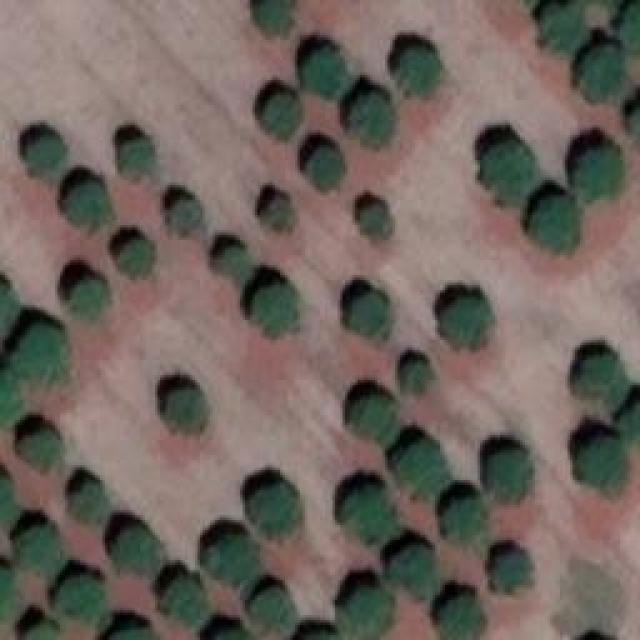Tree: (10, 323, 70, 388), (483, 140, 538, 200), (573, 142, 626, 200), (530, 193, 580, 253), (578, 40, 628, 98), (395, 440, 448, 493), (543, 3, 593, 56), (108, 522, 163, 570), (160, 573, 208, 628), (347, 90, 395, 143), (248, 285, 301, 333), (572, 433, 620, 486), (345, 485, 395, 535), (575, 350, 625, 400), (8, 430, 63, 475), (393, 543, 438, 598), (445, 298, 493, 348), (250, 482, 300, 530), (350, 395, 398, 445), (15, 525, 63, 573), (438, 590, 483, 640), (345, 290, 390, 338), (57, 575, 105, 620), (303, 45, 346, 95), (62, 180, 110, 223), (440, 495, 488, 538), (393, 48, 436, 93), (165, 388, 208, 433), (65, 483, 110, 526), (250, 588, 293, 633), (490, 447, 530, 495), (65, 278, 108, 321), (113, 138, 156, 181), (348, 588, 391, 631), (213, 533, 253, 578), (490, 550, 530, 593), (163, 197, 206, 235), (25, 135, 65, 175), (263, 90, 298, 135), (395, 357, 433, 395), (353, 203, 393, 238), (118, 237, 153, 275), (308, 145, 341, 185), (0, 371, 23, 428), (215, 245, 250, 280), (255, 0, 292, 32), (262, 197, 290, 235), (620, 0, 640, 48), (622, 400, 640, 453), (108, 623, 152, 640), (28, 620, 63, 640)
